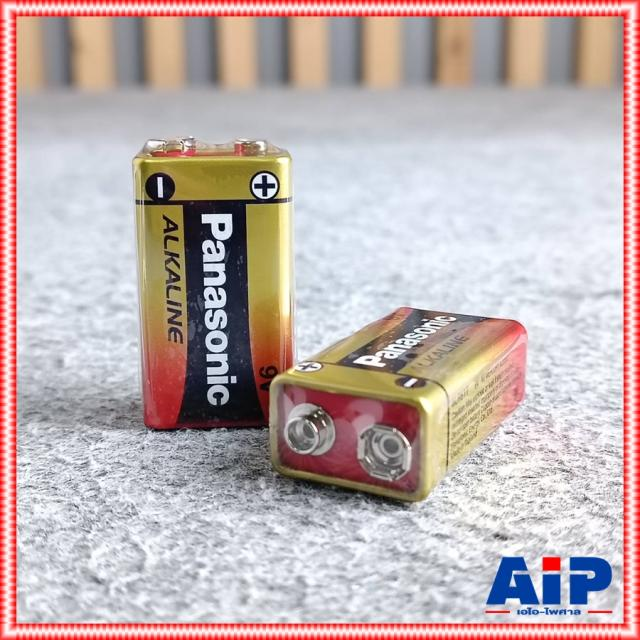battery: (115, 126, 305, 451)
